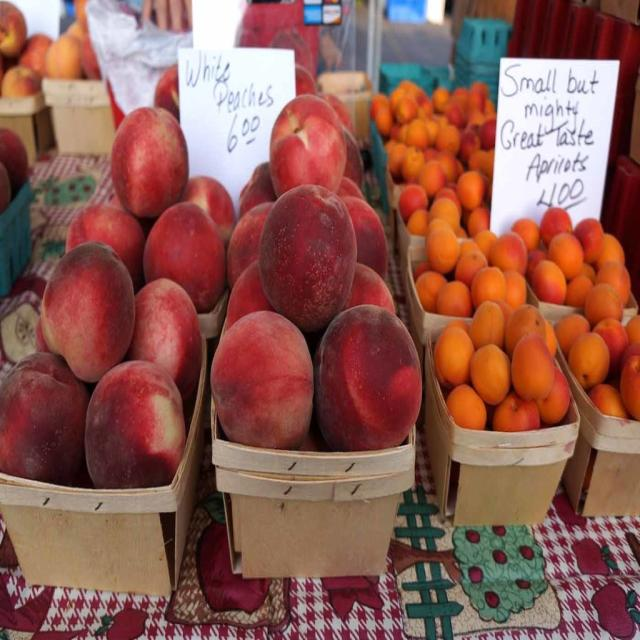Peach: (0, 60, 423, 487), (0, 0, 107, 93), (0, 125, 28, 191), (0, 163, 11, 210)
